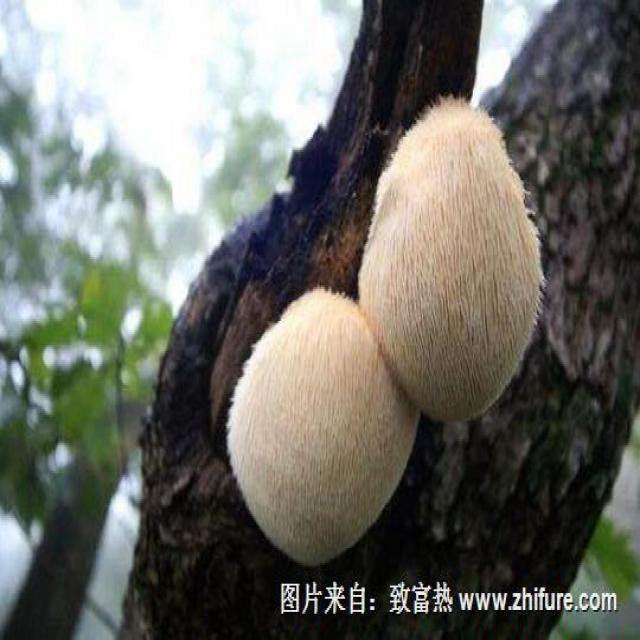Hericium erinaceus: (359, 99, 542, 422), (228, 286, 416, 561)
